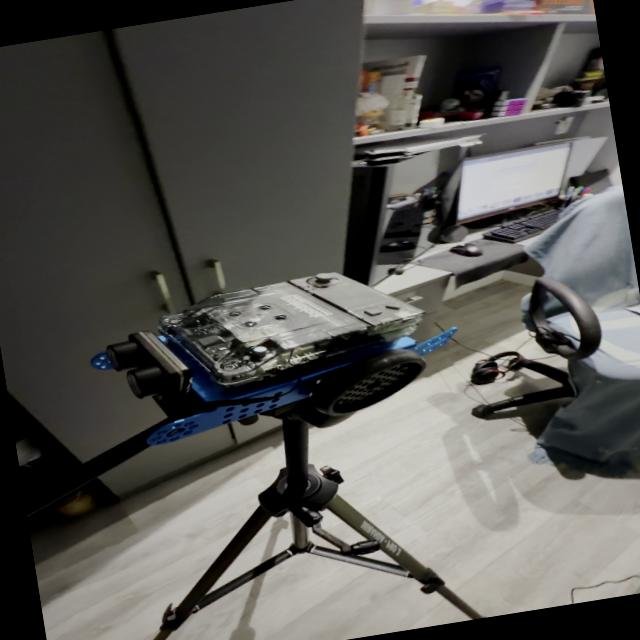mbot-detection: (73, 244, 475, 462)
